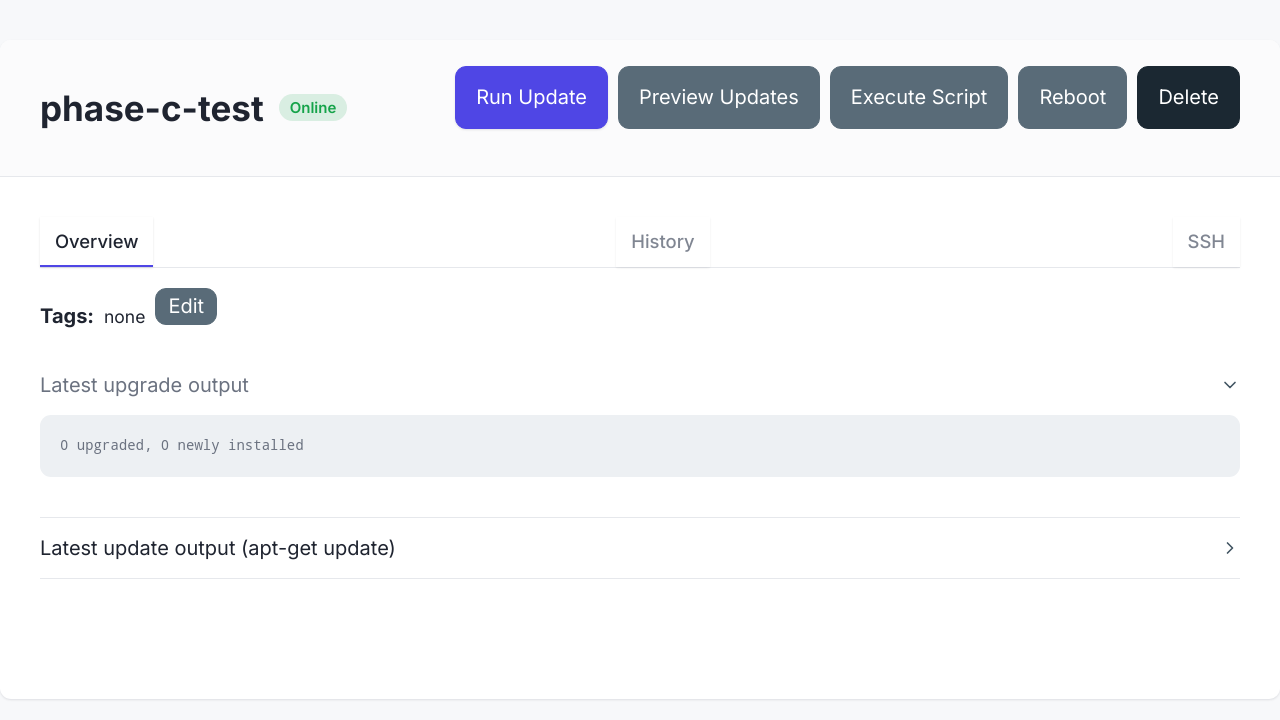
Scenario: HostDetail › shows an empty-state message in History when there are no runs
Expected: the heading "phase-c-test" is shown, [40, 81, 264, 135]
Click the tab "History": point(663, 242) [616, 217, 710, 267]
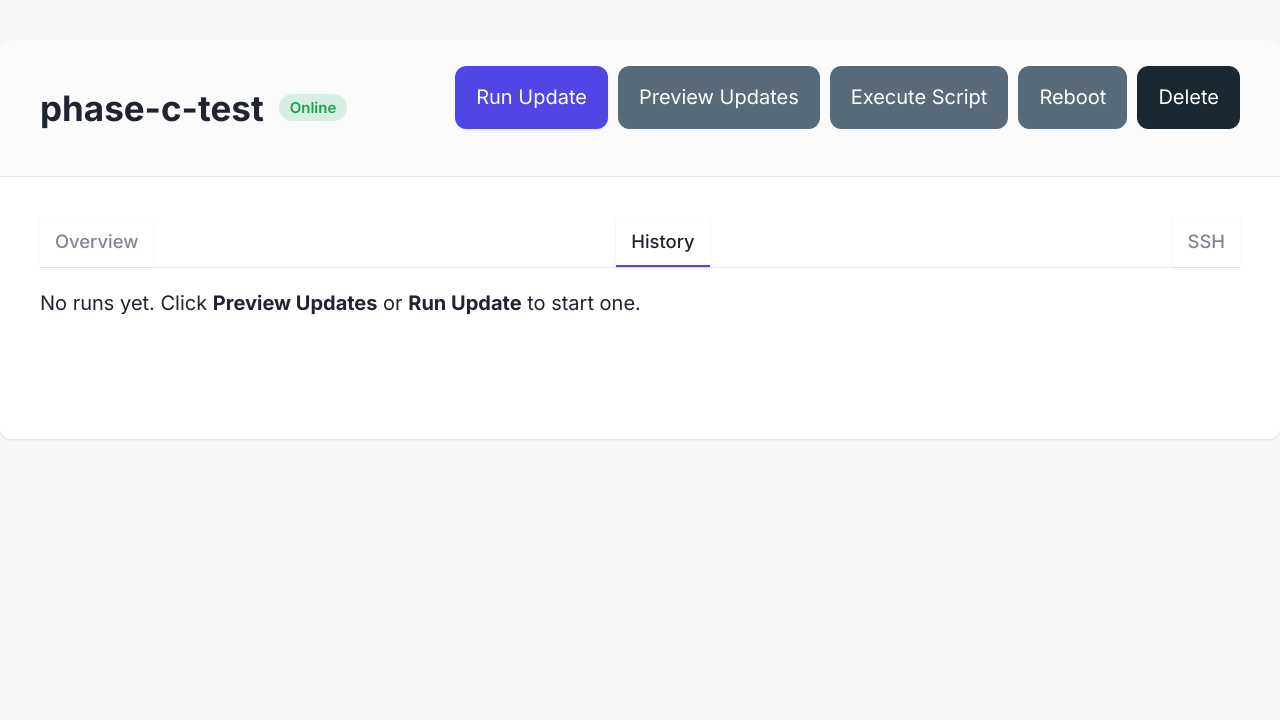
Result: the text "No runs yet" is shown at [40, 291, 213, 315]
